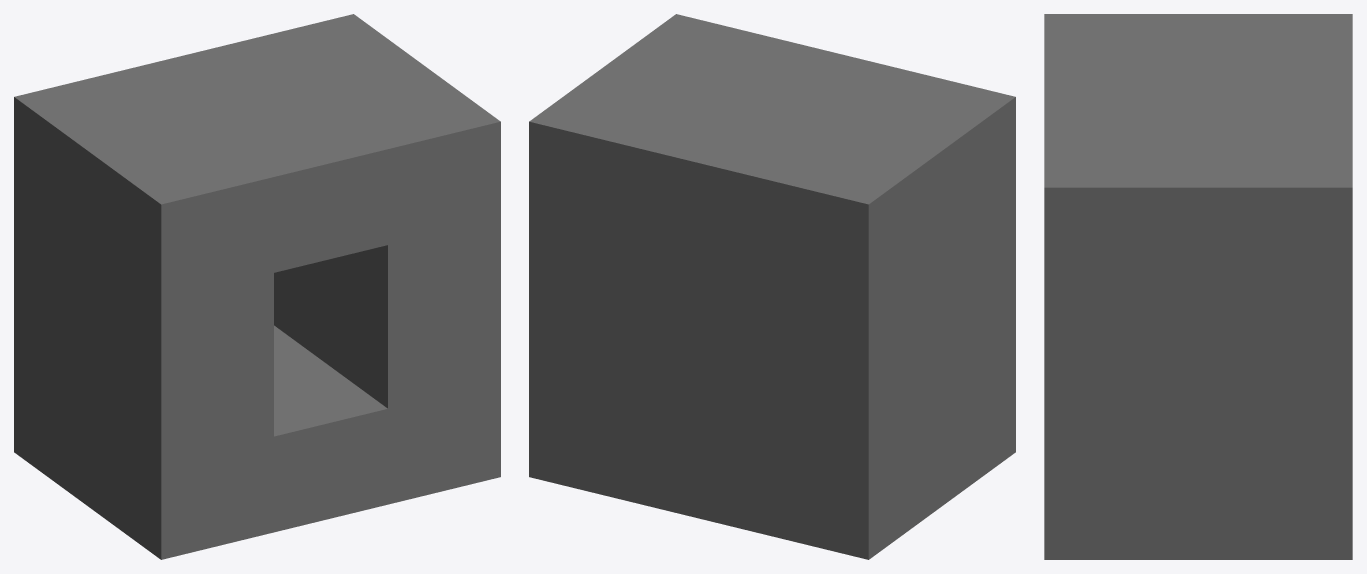
Rendered from hole.obj.
3 renders of one model, left to right at view 1: azimuth 30°, elevation 25°; view 2: azimuth 150°, elevation 25°; view 3: azimuth 270°, elevation 25°, orthographic. The views are drawn at different scales.
Visible parts, largest first — view 1: hole; view 2: hole; view 3: hole.
Part boxes in pixels (x1=…): hole: x1=14, y1=14, x2=500, y2=559; hole: x1=529, y1=14, x2=1015, y2=559; hole: x1=1044, y1=14, x2=1352, y2=559.
Bounding box in the file's own units: 0.08 × 0.08 × 0.06.
1 material, 1 textured.
